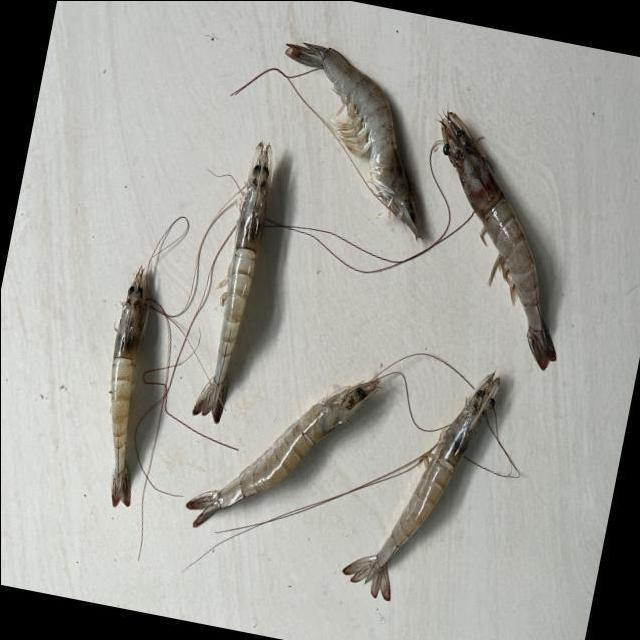shrimp: (342, 373, 500, 601), (441, 111, 556, 369), (186, 379, 379, 527), (285, 42, 420, 239), (192, 141, 271, 423), (109, 266, 145, 507)
